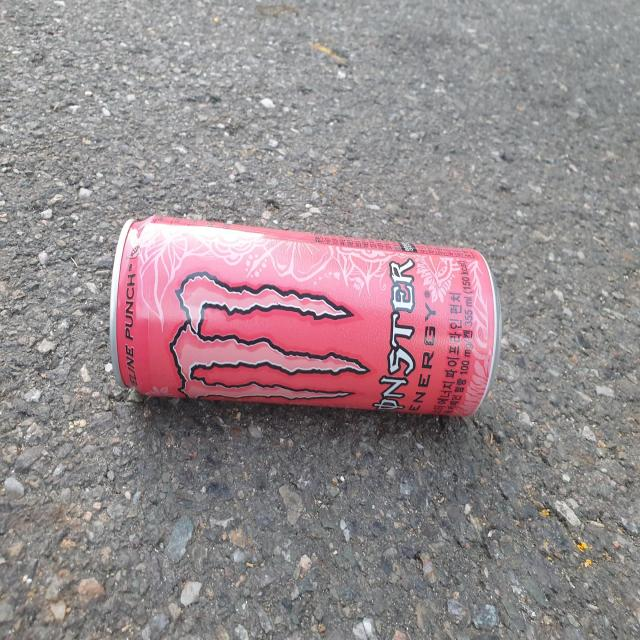can: (109, 216, 502, 417)
